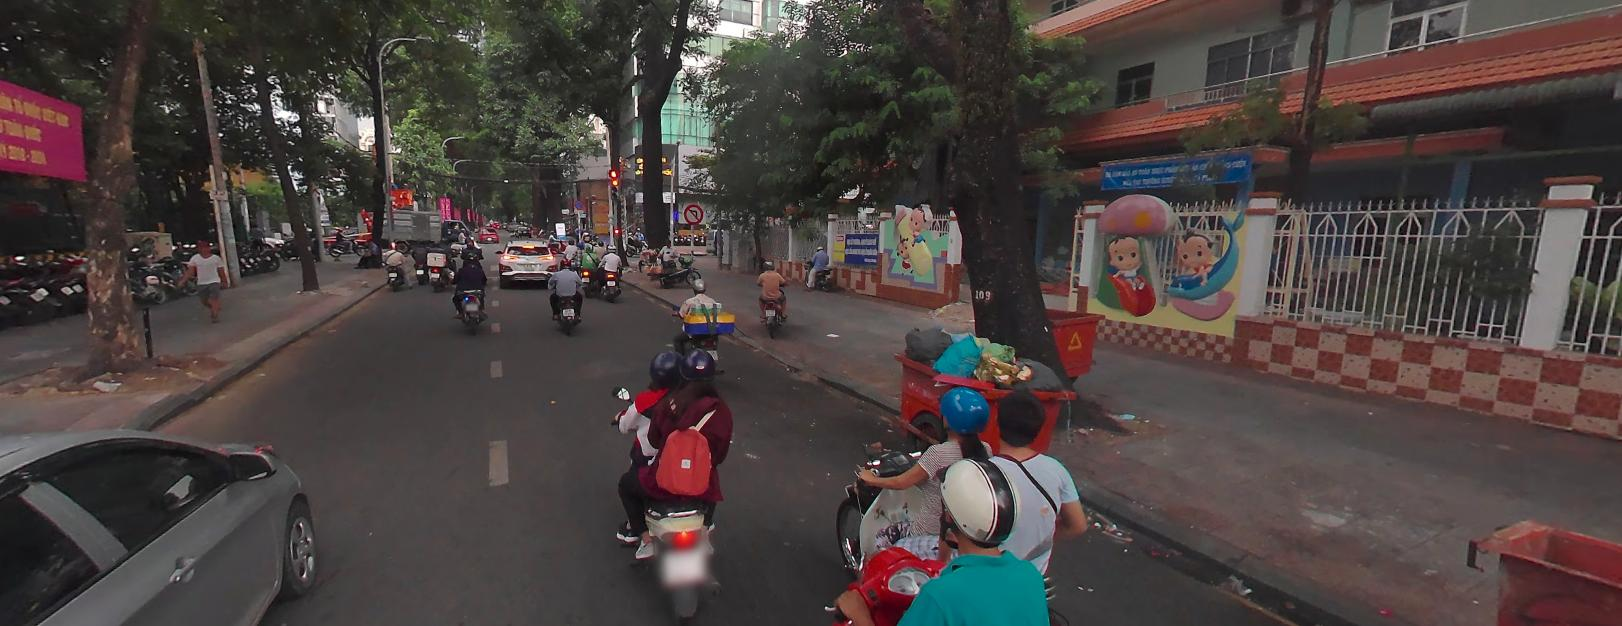Cam dung va do: (574, 198, 583, 207), (574, 199, 582, 207)
Cam re: (683, 202, 704, 222), (683, 202, 702, 223)
